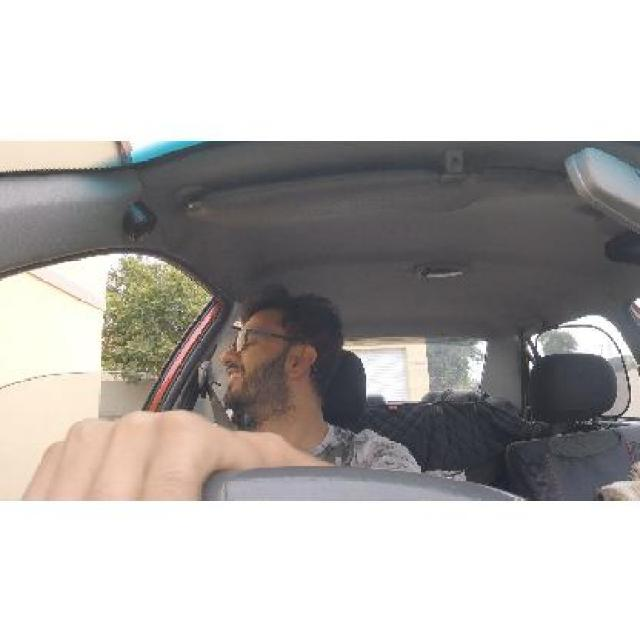LeftRight: (220, 287, 336, 416)
